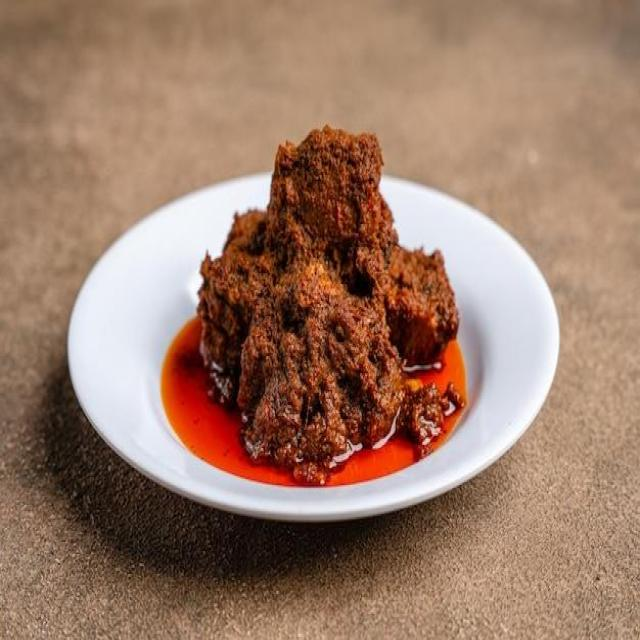Rendang: (197, 109, 466, 488)
